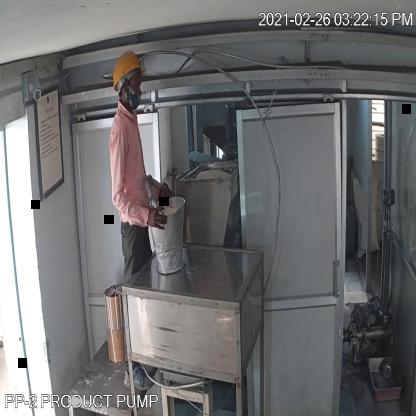helmet: (108, 50, 152, 95)
